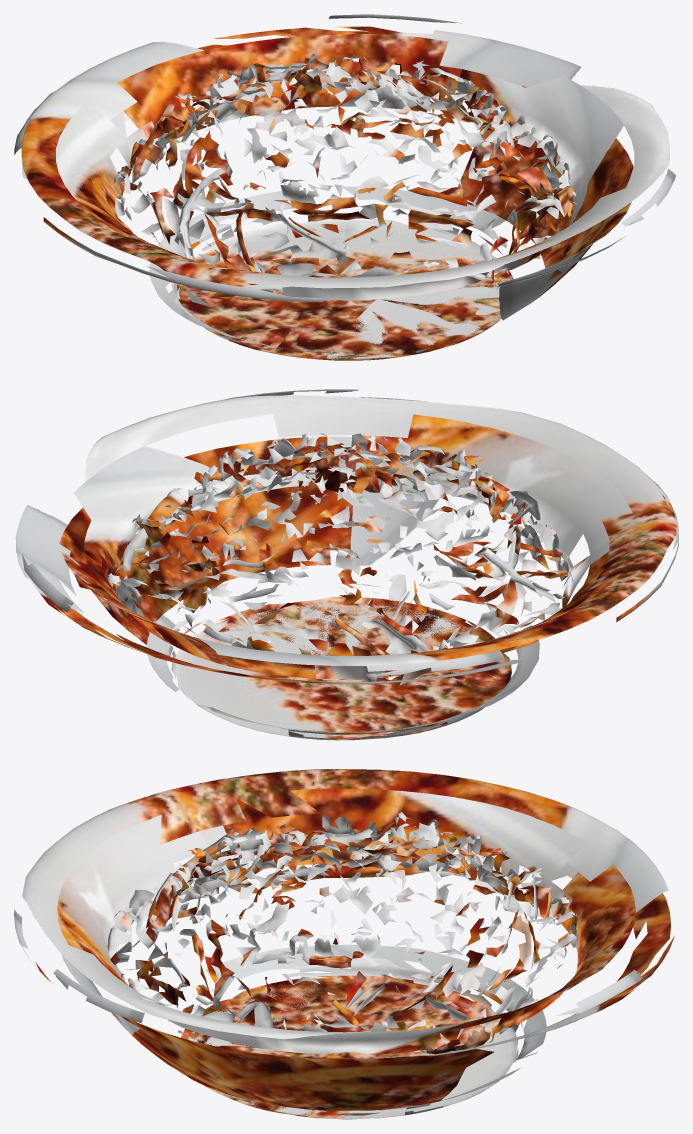
Rendered from abb_spaghetti_bolognese.fbx.
The picture shows the model from 3 angles, top to bottom: view 1: azimuth 30°, elevation 25°; view 2: azimuth 150°, elevation 25°; view 3: azimuth 270°, elevation 25°; orthographic projection.
Visible parts, largest first — view 1: meshes[0]; view 2: meshes[0]; view 3: meshes[0].
Part boxes in pixels (x1,y1,x2,y2): meshes[0]: (14, 14, 675, 360); meshes[0]: (15, 389, 678, 740); meshes[0]: (14, 769, 674, 1119).
Bounding box in the file's own units: 99.8 × 31.84 × 99.41.
